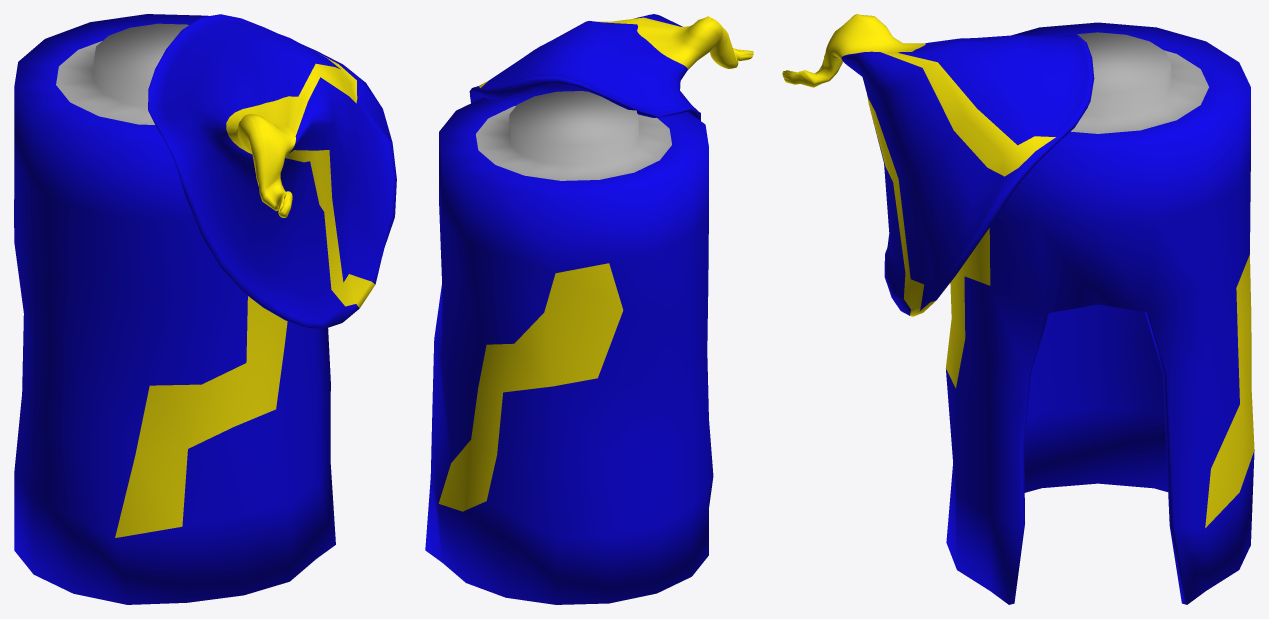
File: BatteryHouse.glb
The picture shows the model from 3 angles, left to right: view 1: azimuth 30°, elevation 25°; view 2: azimuth 150°, elevation 25°; view 3: azimuth 270°, elevation 25°; orthographic projection. The views are drawn at different scales.
Parts seen in each view (by area): view 1: Battery; view 2: Battery; view 3: Battery.
Boxes of the visible parts, x1=… form: Battery: x1=14, y1=14, x2=396, y2=604; Battery: x1=425, y1=14, x2=753, y2=604; Battery: x1=782, y1=14, x2=1254, y2=604.
Bounding box in the file's own units: 5.01 × 8.47 × 6.9.
